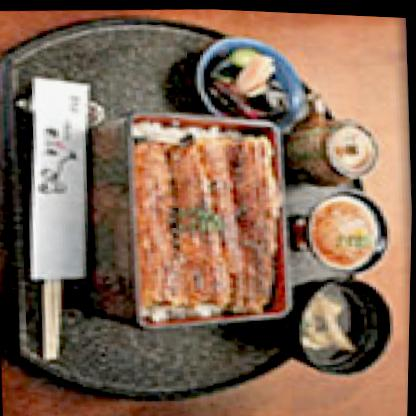Udon: (291, 276, 392, 374)
eel: (124, 122, 282, 317)
